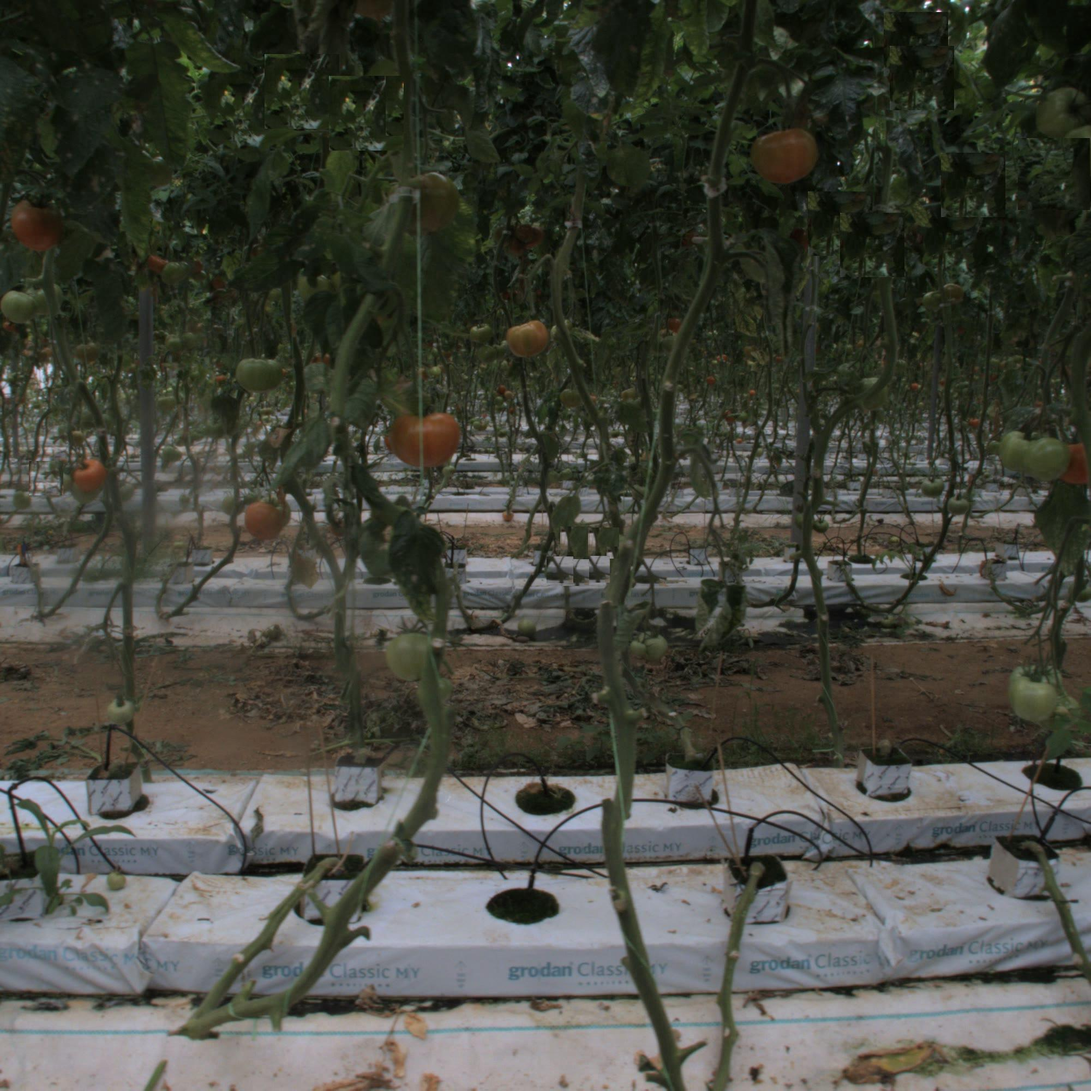fully-ripe: (392, 401, 457, 466), (244, 499, 290, 545), (70, 459, 109, 497)
semi-ripe: (752, 118, 818, 184), (8, 193, 64, 250), (505, 316, 550, 361)
unripe: (1003, 417, 1068, 483), (399, 171, 464, 236), (1008, 662, 1065, 719), (1033, 89, 1085, 142), (384, 630, 432, 678), (236, 347, 284, 395)
